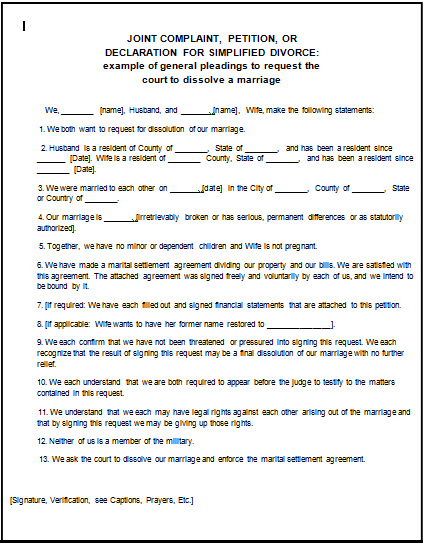textline: (265, 318, 332, 330), (60, 105, 95, 116), (180, 105, 215, 116), (174, 142, 209, 153), (244, 142, 279, 153), (265, 153, 300, 164), (166, 153, 201, 164), (33, 153, 68, 164), (35, 164, 70, 175), (168, 182, 203, 193), (273, 182, 308, 193), (350, 183, 385, 194), (83, 193, 118, 204), (102, 212, 137, 223)
